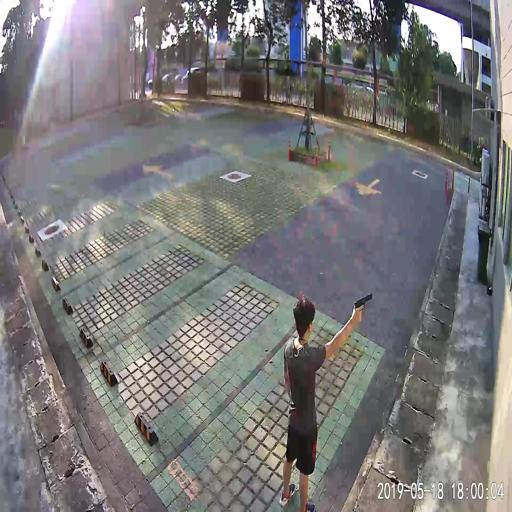pistol: (353, 292, 372, 323)
